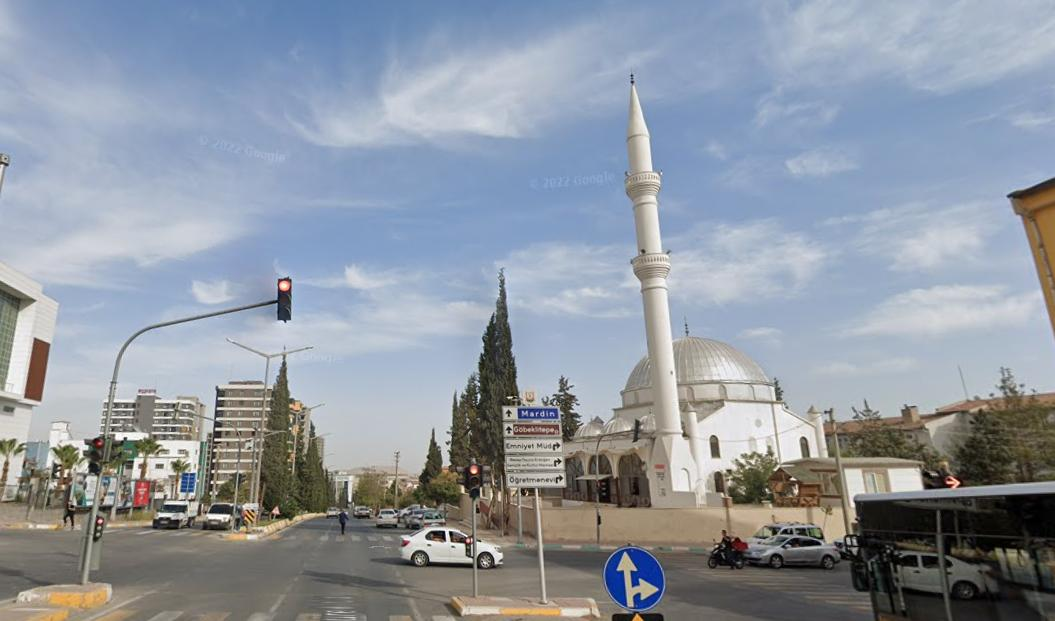redlight: (273, 274, 293, 324)
